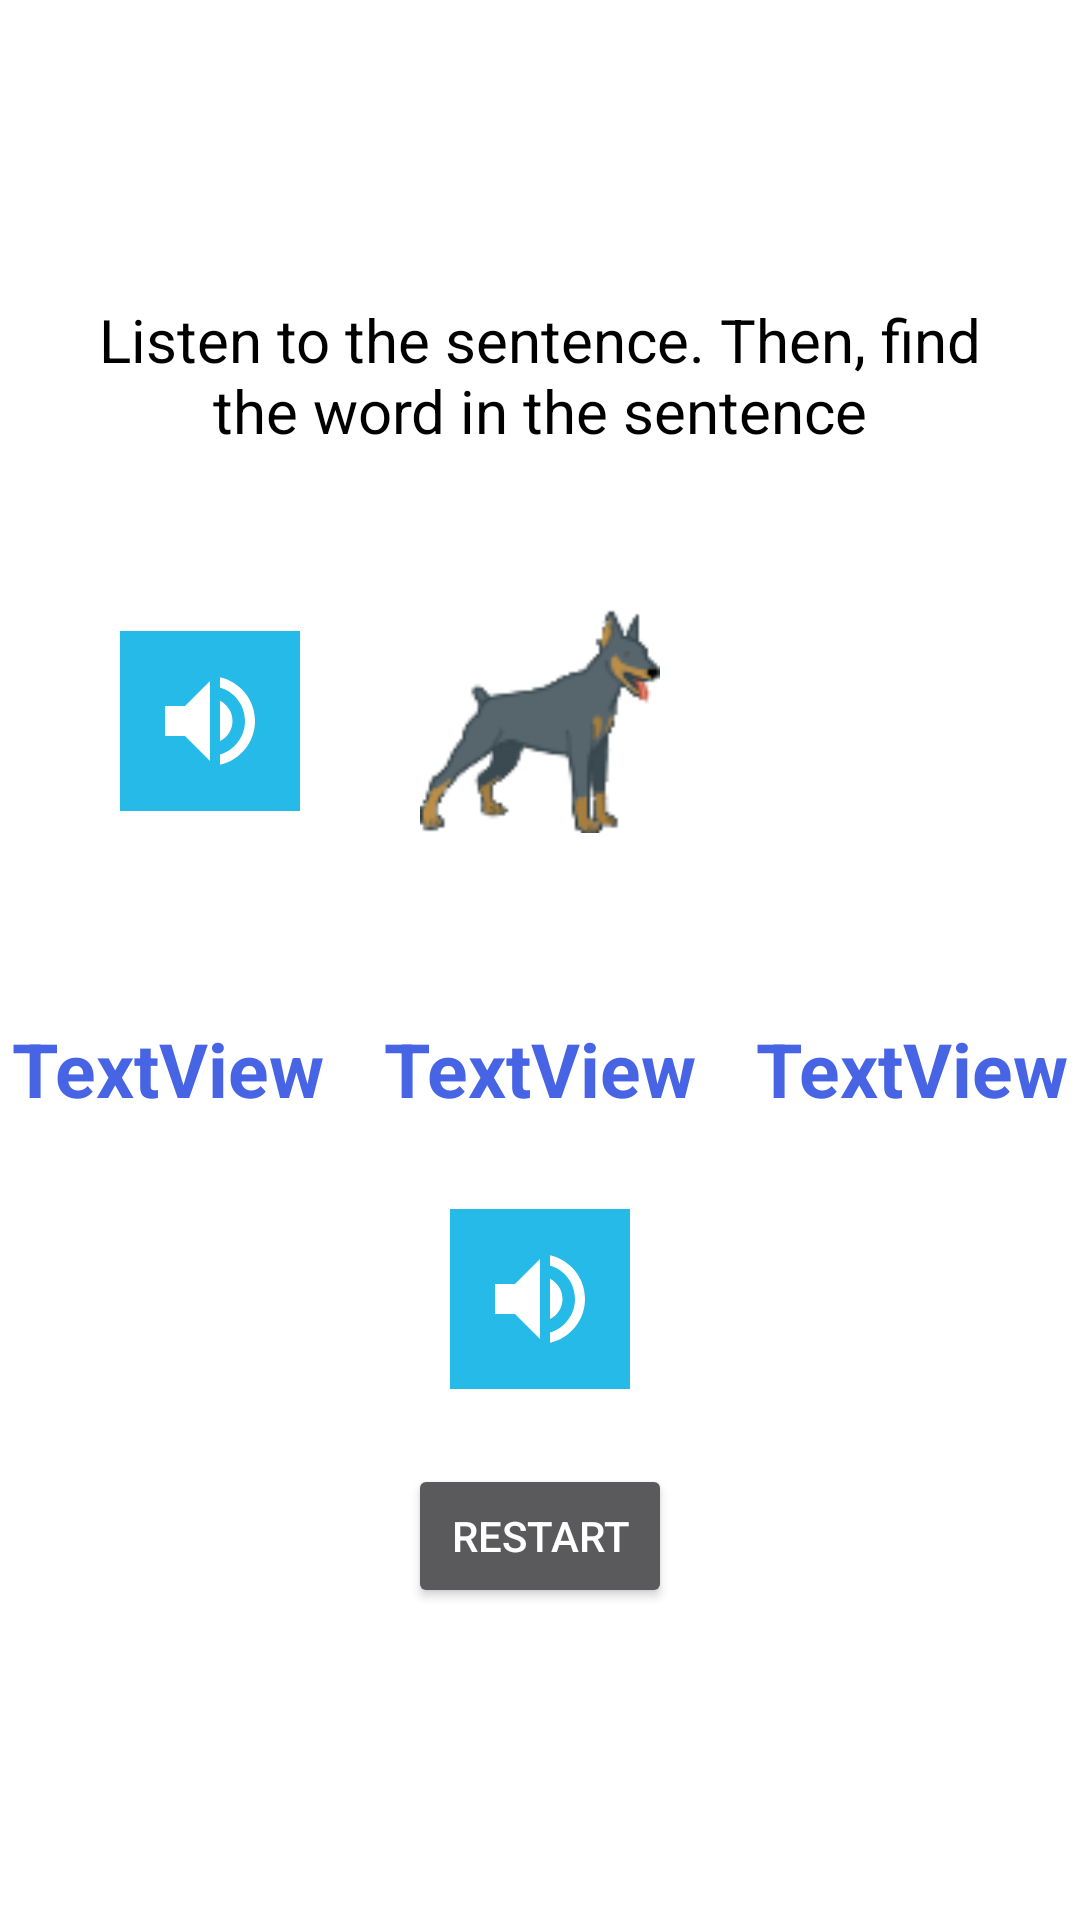

Where icons sit on this 1080px×1920px app screen, as (x1, y1, x2, y2):
dog: (420, 610, 660, 833)
volume up: (120, 631, 300, 811), (450, 1209, 630, 1389)
